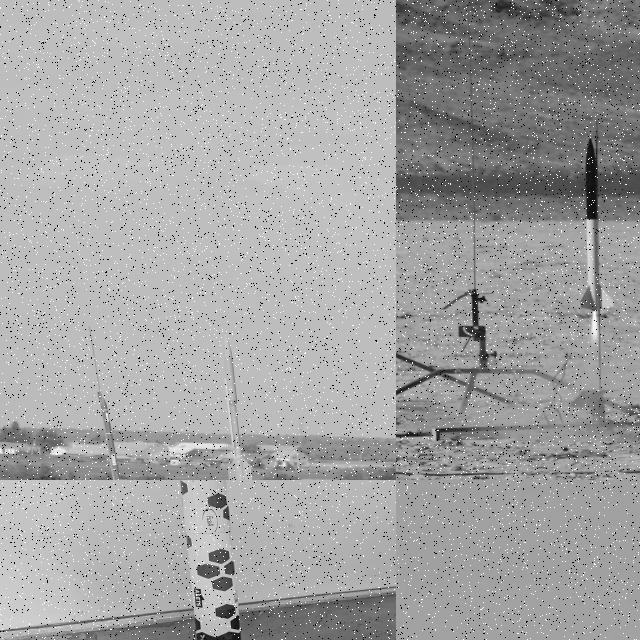Rocket: (179, 480, 242, 640), (579, 136, 616, 312), (222, 334, 252, 480), (101, 396, 127, 480)
